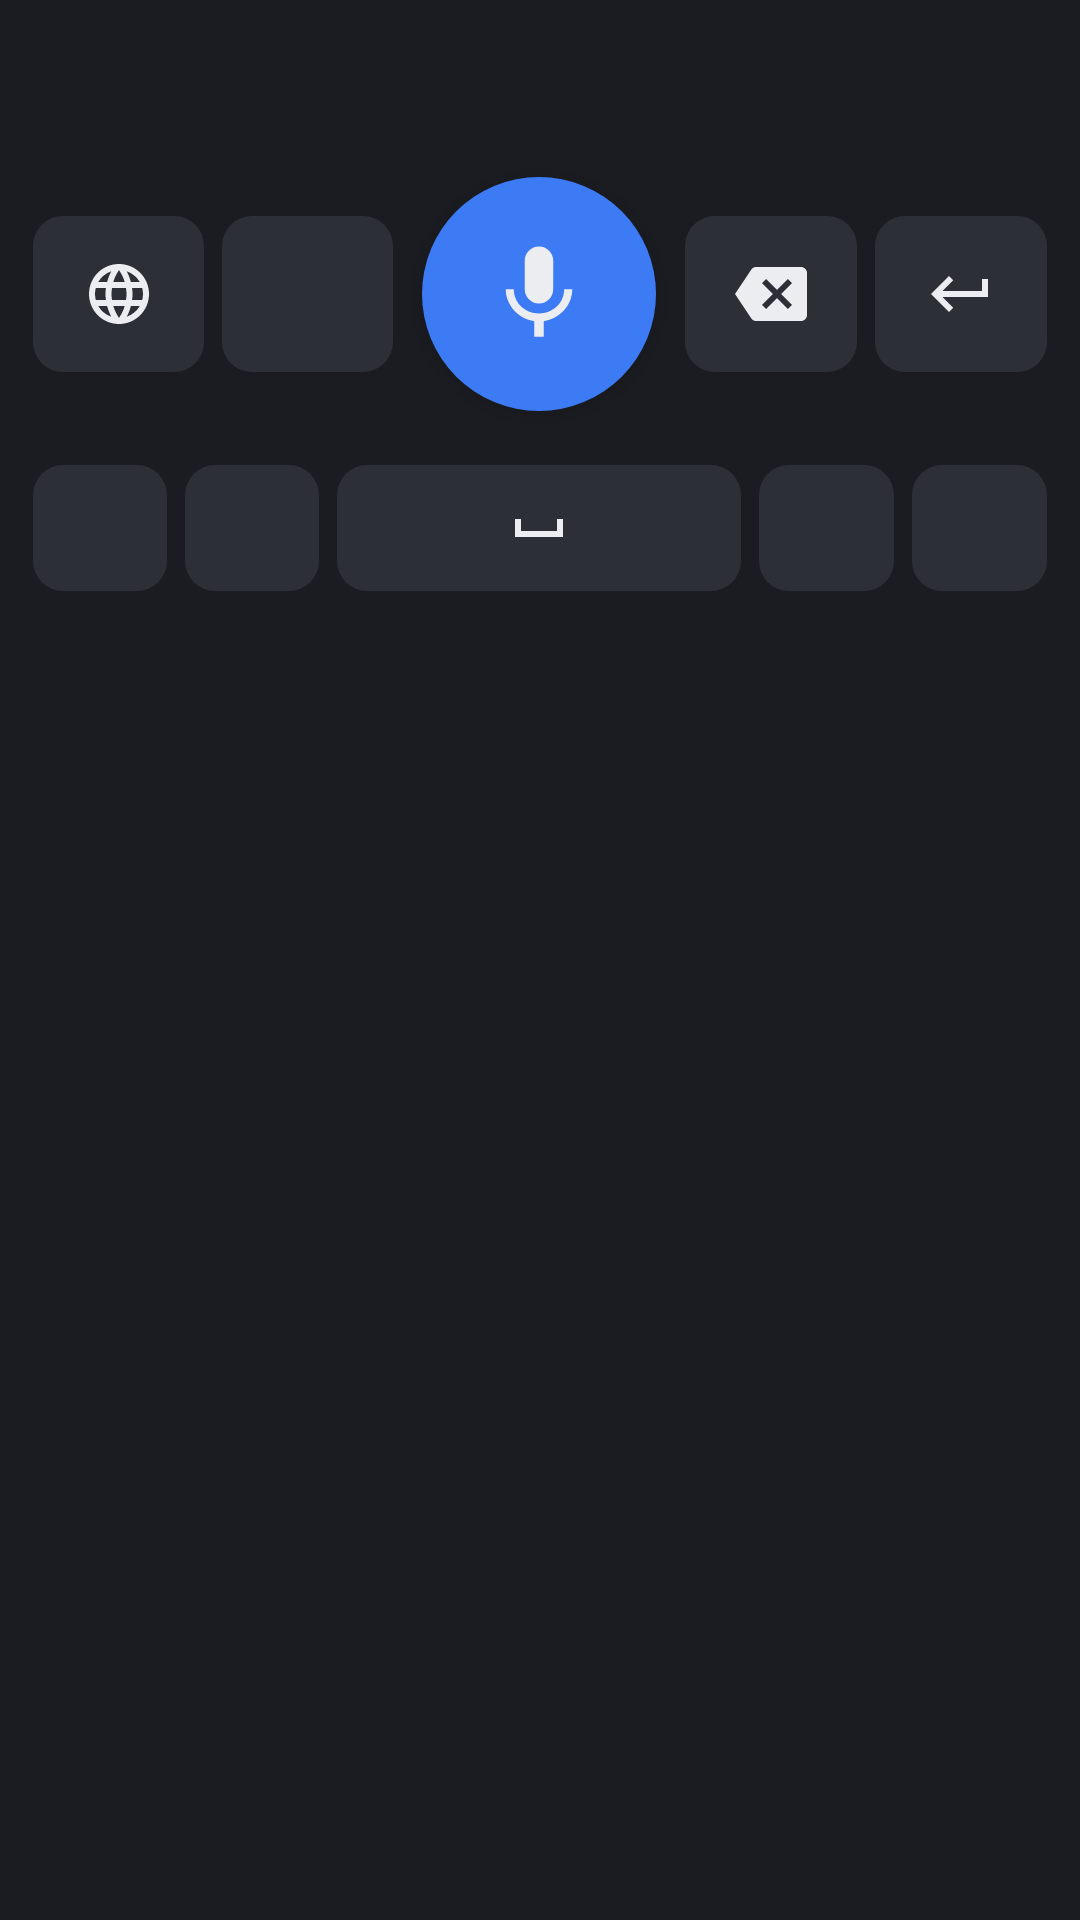

Icons on this 1080w x 1920h Android screen, each with its box as rect(x1, y1, x2, y2):
ارسال / خط بعد: rect(875, 216, 1047, 372)
فاصله: rect(515, 519, 563, 537)
میکروفون: rect(422, 177, 656, 411)
پاک کردن: rect(735, 267, 807, 321)
کیبورد قبلی: rect(89, 264, 149, 324)
